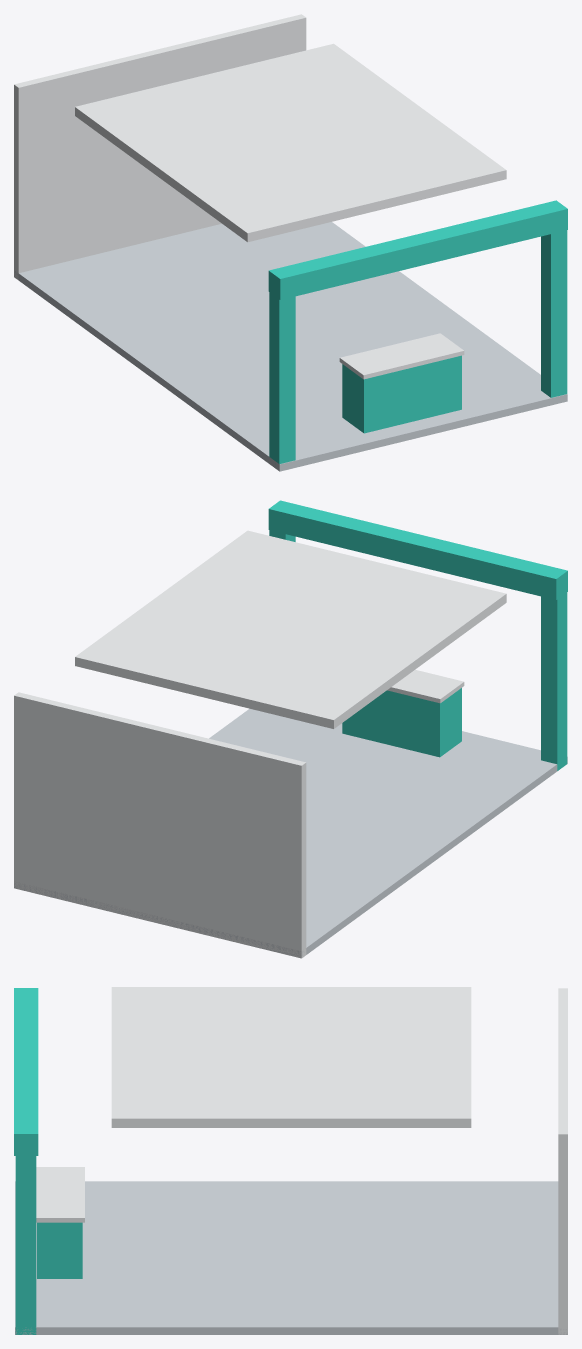
3 renders of one model, top to bottom at view 1: azimuth 30°, elevation 25°; view 2: azimuth 150°, elevation 25°; view 3: azimuth 270°, elevation 25°, orthographic. The views are drawn at different scales.
Parts seen in each view (by area): view 1: Exhibition Booth Concept; view 2: Exhibition Booth Concept; view 3: Exhibition Booth Concept.
Boxes of the visible parts, bbox=[...] form: Exhibition Booth Concept: bbox=[14, 14, 567, 471]; Exhibition Booth Concept: bbox=[14, 500, 567, 958]; Exhibition Booth Concept: bbox=[14, 987, 567, 1334].
Bounding box in the file's own units: 5 × 3.34 × 8.01.
